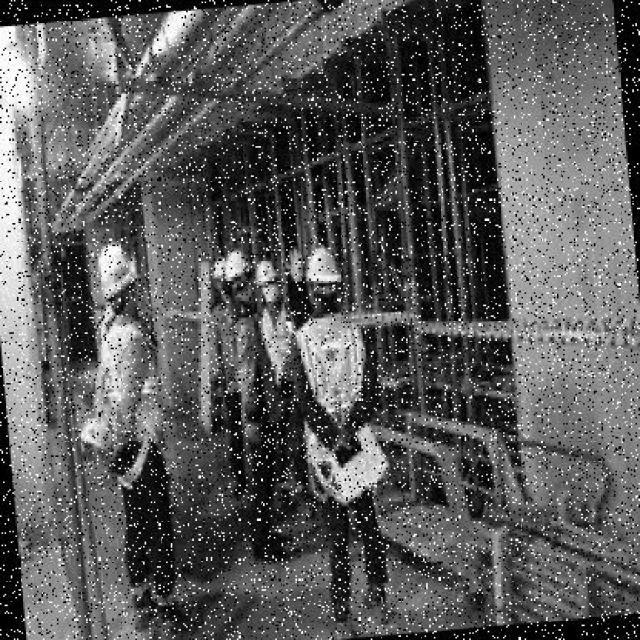Arnes_seguridad: (291, 314, 388, 511), (97, 312, 176, 505)
